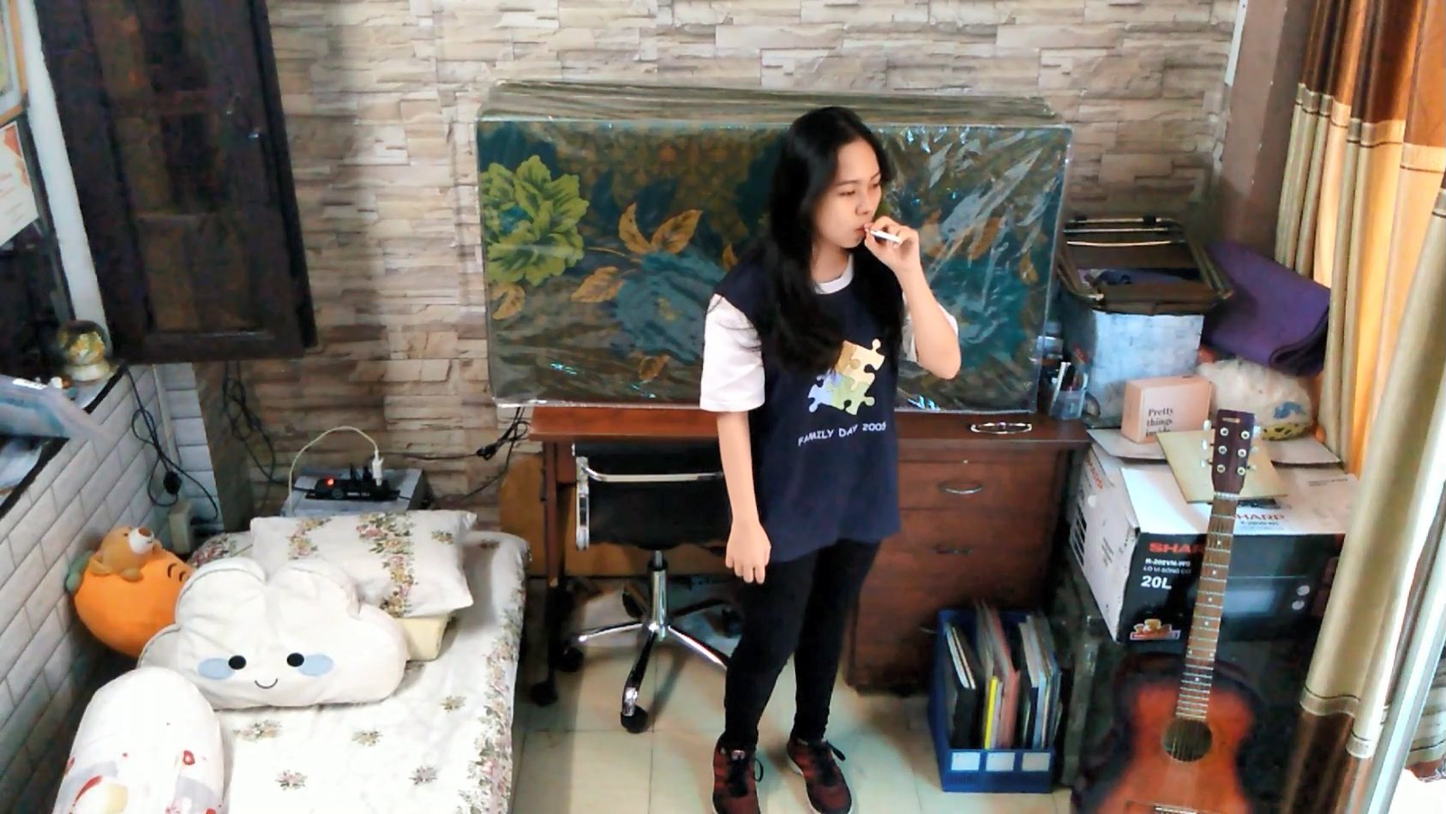cigarette: (860, 226, 902, 245)
person: (677, 92, 975, 814)
